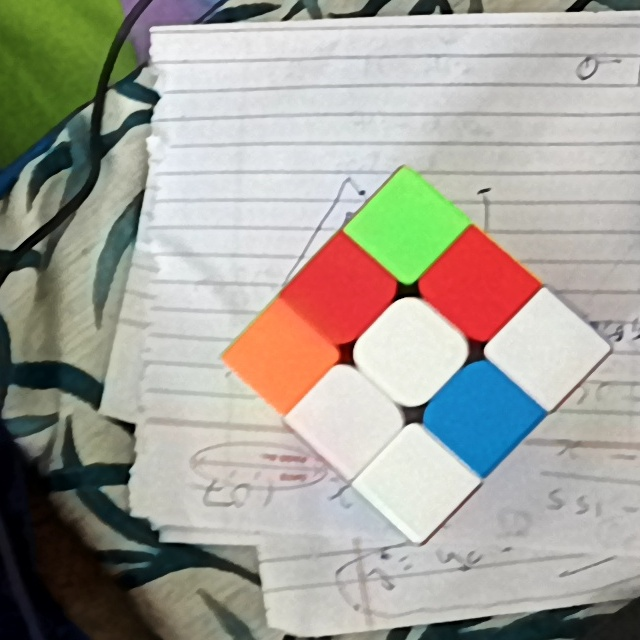tile: (378, 320, 443, 385), (451, 380, 514, 446), (317, 387, 379, 449), (515, 317, 578, 378), (447, 259, 512, 317), (376, 196, 439, 255), (389, 449, 446, 511), (310, 263, 366, 322), (254, 330, 310, 386)
